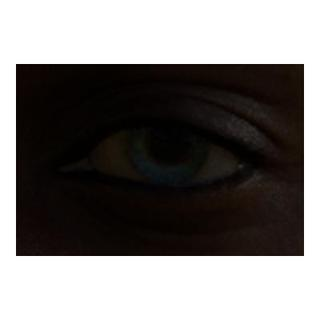pupil: (151, 125, 185, 160)
